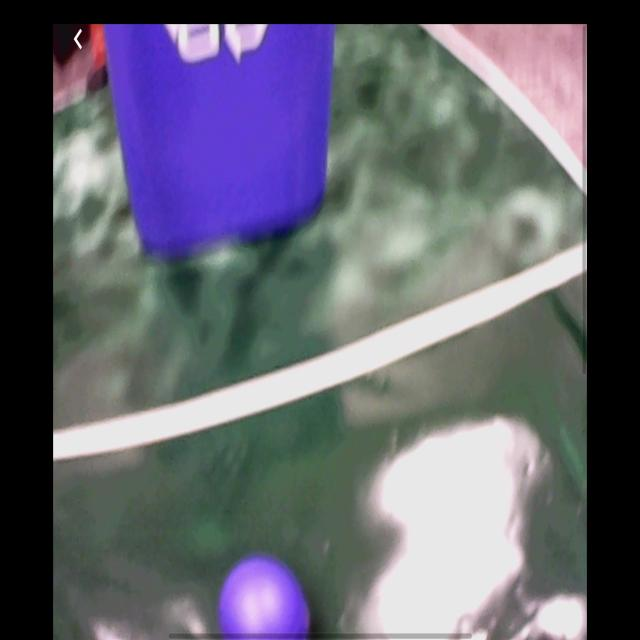ball: (220, 559, 313, 639)
